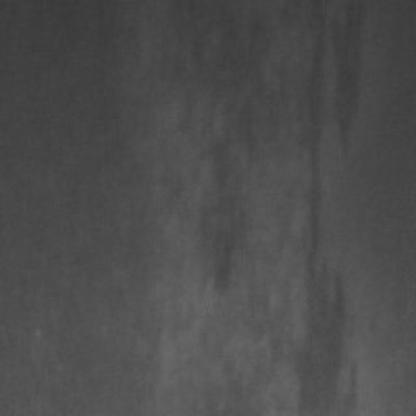inclusion: (295, 0, 366, 410), (198, 92, 256, 294)
